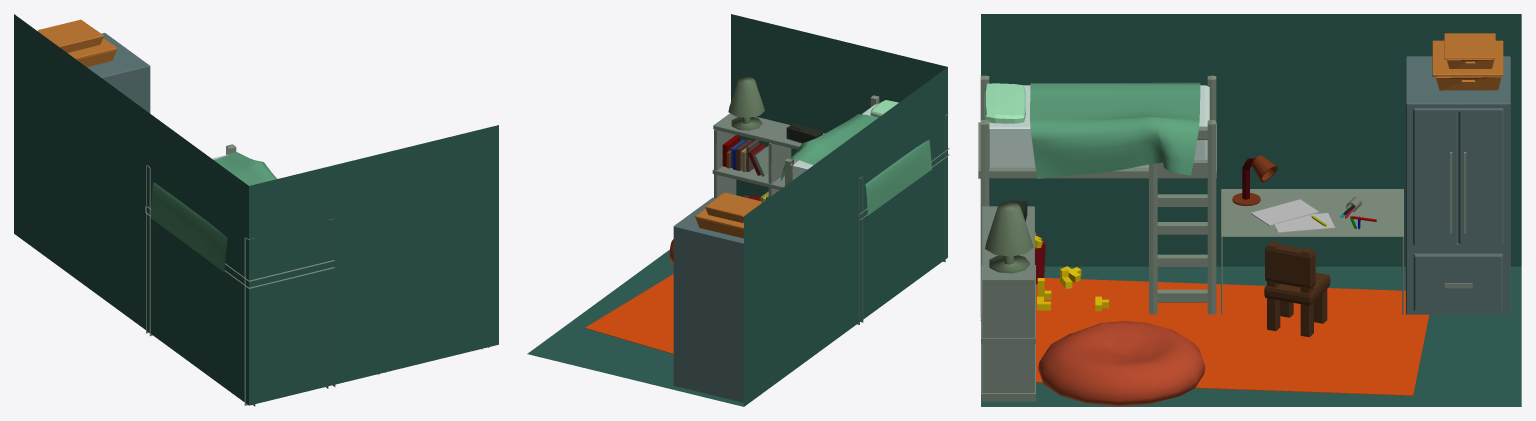
The model's file is Bedroom.fbx.
The picture shows the model from 3 angles, left to right: view 1: azimuth 30°, elevation 25°; view 2: azimuth 150°, elevation 25°; view 3: azimuth 270°, elevation 25°; orthographic projection. The views are drawn at different scales.
Parts seen in each view (by area): view 1: House, Plane, Cube.014, boxes, bed frame; view 2: House, Cube.014, Plane, carpet, shelf, boxes, Lamp 2, bed frame, Radio; view 3: House, carpet, Cube.014, Plane, puffy pillow, bed frame, shelf, table, chair, boxes, bed, Lamp 2 (+4 smaller).
Part boxes in pixels (x1,y1,x2,y2): House: [14, 14, 498, 405]; Plane: [150, 152, 276, 271]; Cube.014: [87, 33, 150, 113]; boxes: [38, 19, 117, 66]; bed frame: [145, 144, 335, 406]; House: [527, 14, 947, 406]; Cube.014: [673, 197, 743, 402]; Plane: [780, 114, 931, 215]; carpet: [585, 274, 673, 354]; shelf: [712, 113, 824, 198]; boxes: [695, 192, 762, 238]; Lamp 2: [728, 77, 764, 130]; bed frame: [785, 95, 949, 324]; Radio: [786, 123, 822, 143]; House: [981, 14, 1521, 406]; carpet: [1036, 278, 1429, 395]; Cube.014: [1406, 56, 1510, 314]; Plane: [1030, 82, 1200, 178]; puffy pillow: [1038, 321, 1205, 406]; bed frame: [978, 75, 1216, 317]; shelf: [981, 206, 1035, 401]; table: [1221, 189, 1403, 314]; chair: [1264, 241, 1330, 337]; boxes: [1432, 33, 1503, 90]; bed: [989, 85, 1209, 167]; Lamp 2: [985, 202, 1033, 273].
Size of the model in its own units: 519 by 447 by 839.
